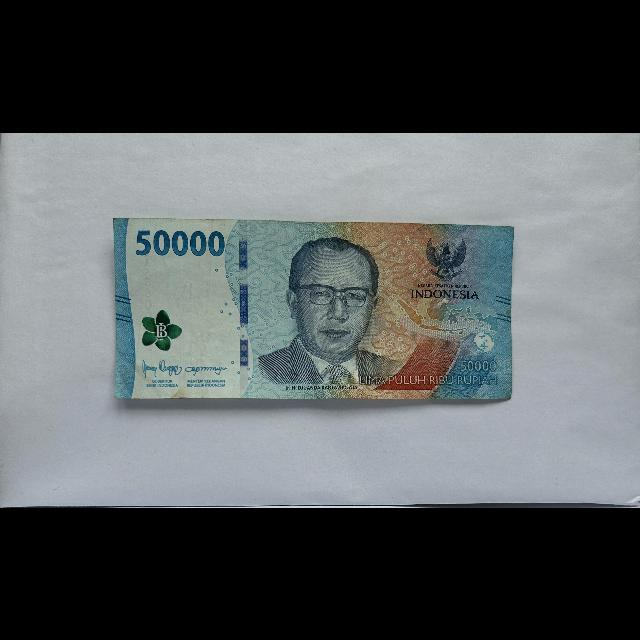Asli-50k: (111, 214, 516, 401)
Tinta-Asli-50k: (142, 308, 183, 351)
